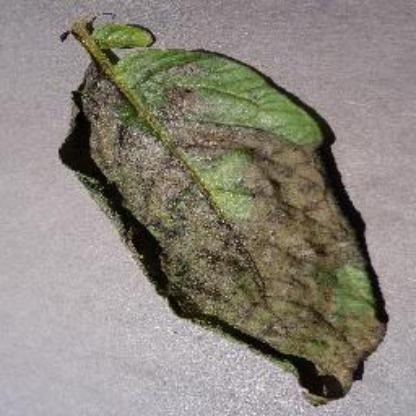Late-Blight: (52, 19, 402, 388)
